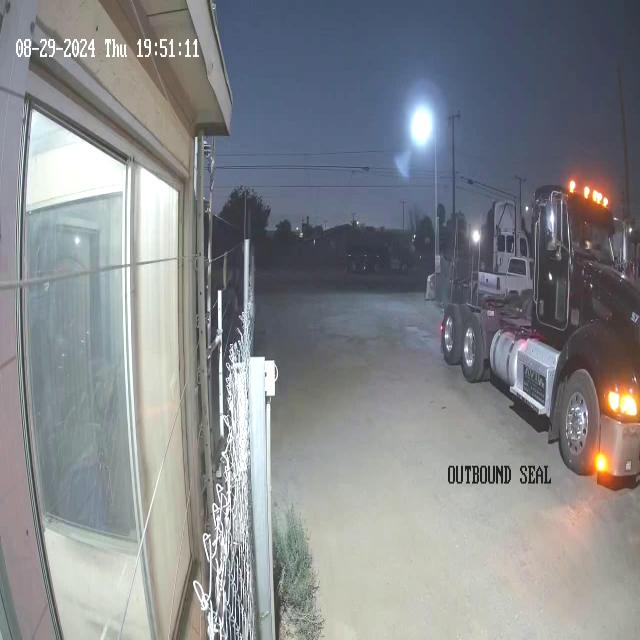BOBTAIL: (439, 180, 639, 489)
